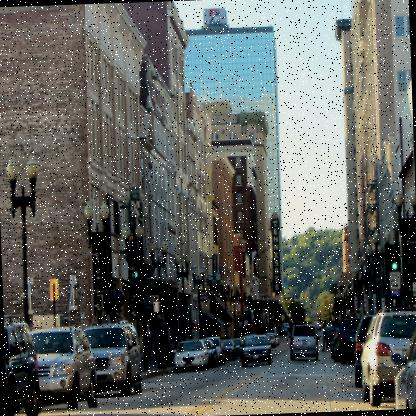Car: (23, 326, 98, 410), (353, 312, 415, 406), (81, 317, 142, 399), (4, 314, 43, 415), (392, 324, 415, 410), (354, 318, 376, 387), (330, 320, 364, 362), (240, 334, 272, 370), (288, 325, 320, 361), (170, 340, 208, 366), (204, 340, 219, 368), (221, 340, 236, 360), (313, 320, 322, 328)
